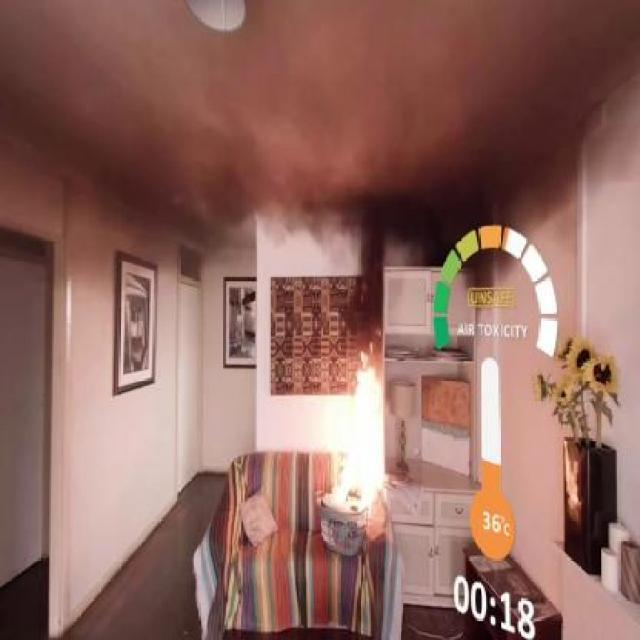fire: (314, 343, 391, 542)
smoke: (272, 179, 476, 307)
